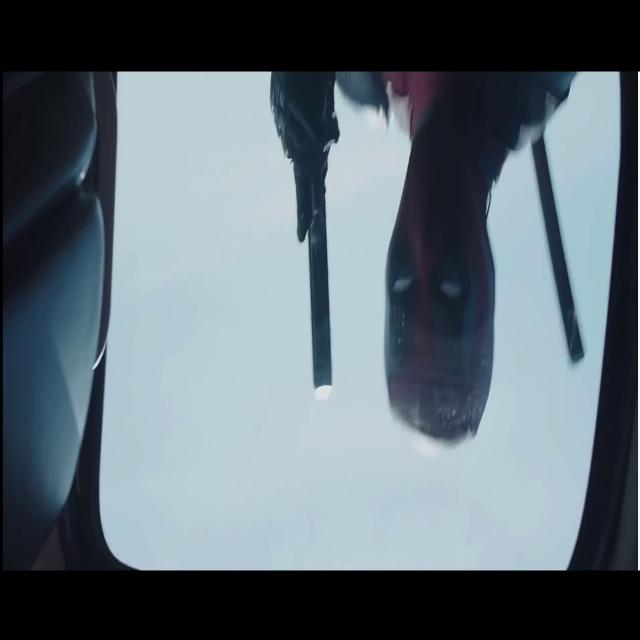weapons: (274, 68, 352, 410)
